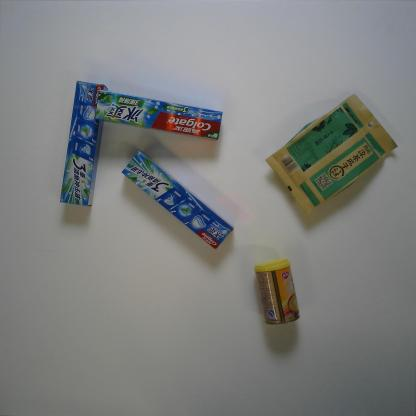Canned Food: (253, 258, 301, 326)
Dried Food: (264, 92, 398, 216)
Personal Hygiene: (121, 150, 234, 250), (94, 89, 223, 141), (59, 80, 109, 208)
